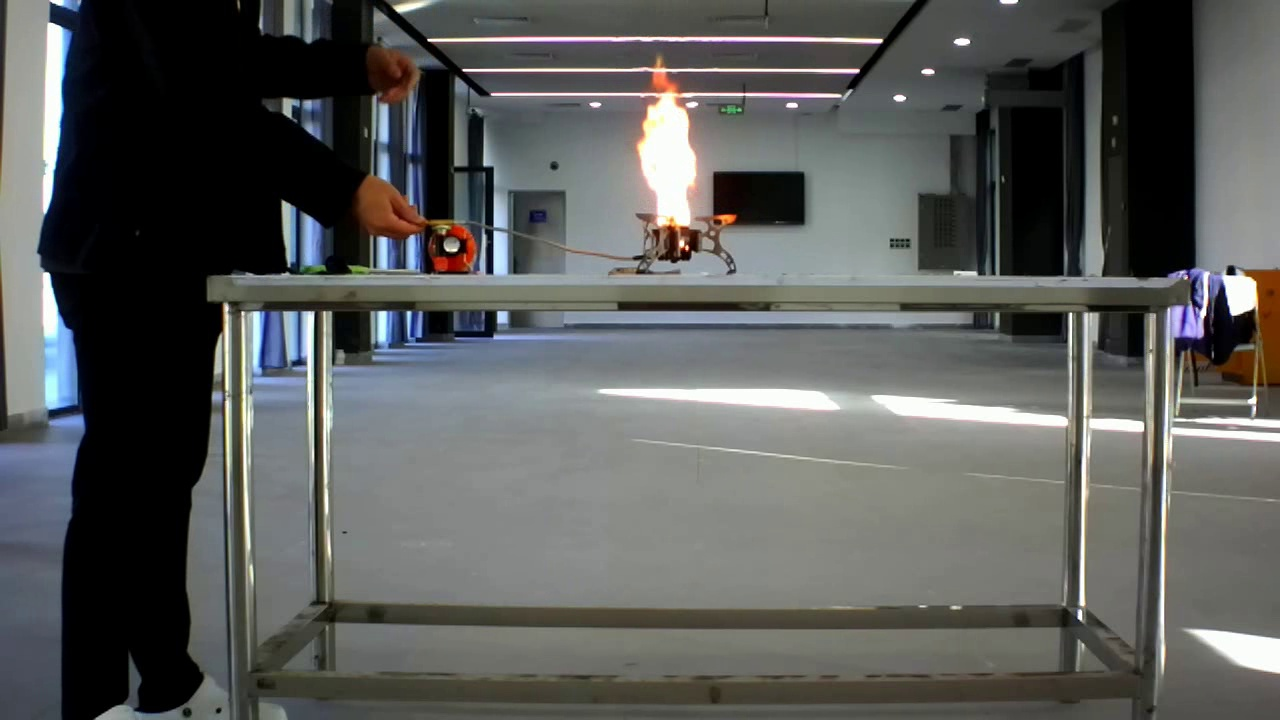Fire: (620, 55, 740, 263)
